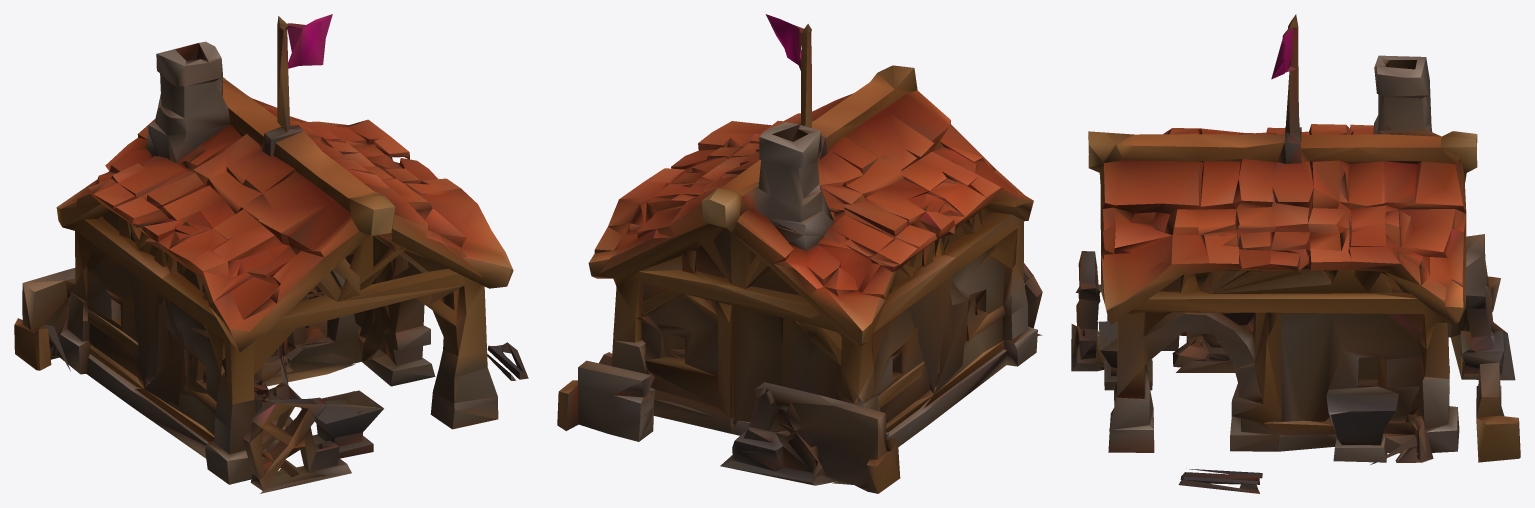
File: smithy2.lod2.glb
3 renders of one model, left to right at view 1: azimuth 30°, elevation 25°; view 2: azimuth 150°, elevation 25°; view 3: azimuth 270°, elevation 25°, orthographic. The views are drawn at different scales.
Visible parts, largest first — view 1: Mesh_0; view 2: Mesh_0; view 3: Mesh_0.
Boxes of the visible parts, <box> form: Mesh_0: <box>14,14,528,493</box>; Mesh_0: <box>557,14,1042,493</box>; Mesh_0: <box>1071,14,1520,493</box>.
Size of the model in its own units: 1.88 by 1.75 by 1.9.
